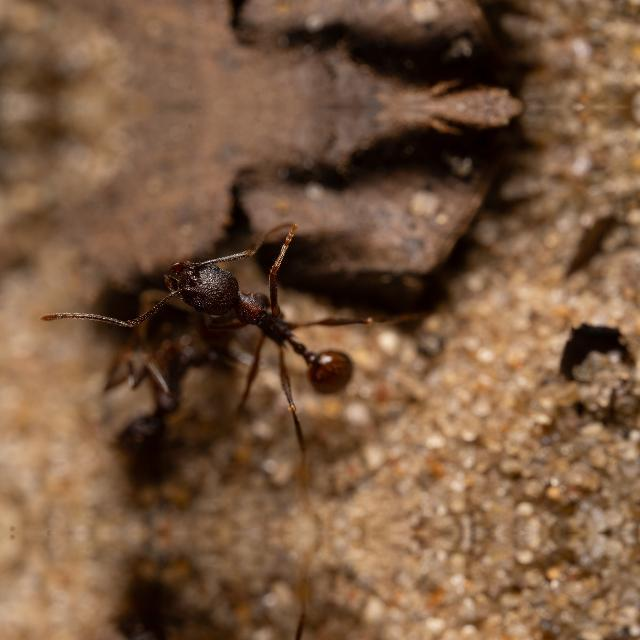Apheanogaster: (126, 236, 387, 414)
